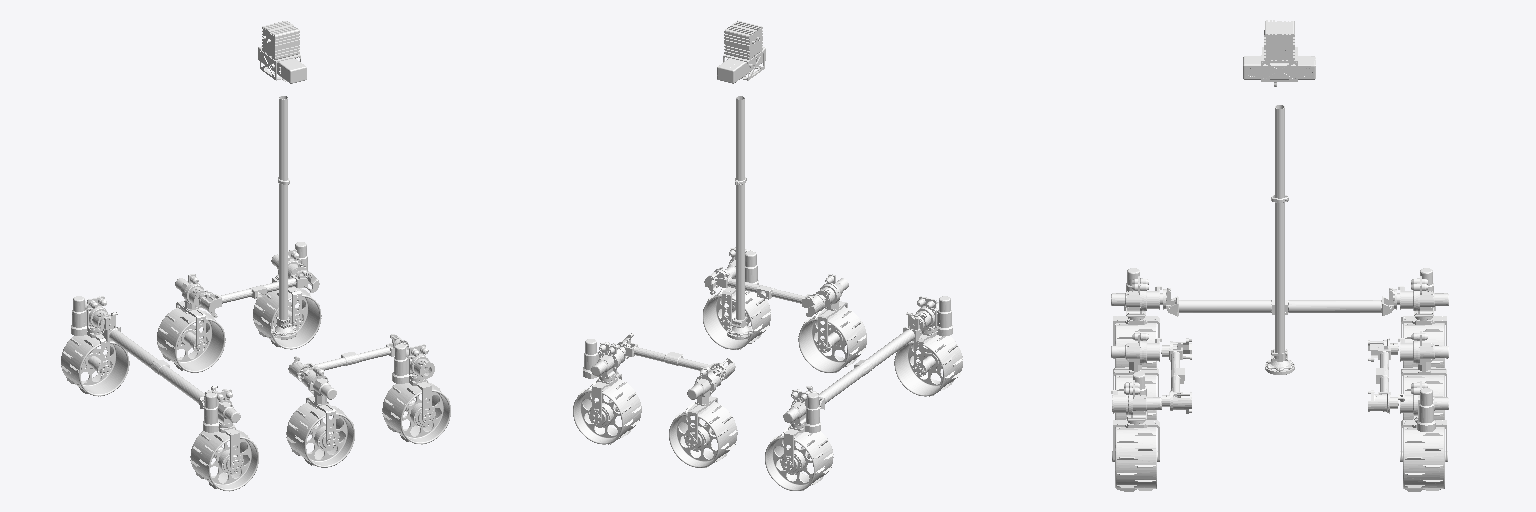
robot.urdf — exoter:
<?xml version="1.0"?>
<!-- URDF for ExoTer rover -->
<!-- Author: [author], [email redacted] DFKI, Robotic Innovation Centre -->
<!-- Version: 0.1 -->
<!-- February 2014 -->

<robot name="exoter">

<!-- Link definitions -->
<!-- Base Link of the Rover, main body of the rover, which looks like a Box -->
<link name="body_base">
    <visual>
        <geometry>
            <mesh filename="package://ga_slam_visualization/urdf/meshes/exoter/body_base_vicon_and_gps.stl" scale = "1 1 1"/>
        </geometry>
        <origin xyz="-0.0405 0.0 0.11" rpy="0 0 0"/> <!-- X translation to make the center at the middle wheels and Z translation for the height in body center (sign are changed because we are moving the body stl wrt the frame)-->
        <material name="White">
            <color rgba="1.0 1.0 1.0 1.0"/>
        </material>
    </visual>
</link>


<!-- Rear Link definition -->
<link name="rear_bogie">
    <visual>
        <geometry>
            <mesh filename="package://ga_slam_visualization/urdf/meshes/exoter/rear_bogie.stl" scale = "1 1 1"/>
        </geometry>
        <origin xyz="0.0 0.0 -0.02" rpy="0 0 0"/>
        <material name="White" >
            <color rgba="1.0 1.0 1. 1.0"/>
        </material>
    </visual>
</link>

<!-- Left Link definition -->
<link name="left_bogie">
    <visual>
        <geometry>
            <mesh filename="package://ga_slam_visualization/urdf/meshes/exoter/lateral_bogie.stl" scale = "1 1 1"/>
        </geometry>
        <origin xyz="0.0 0.0 0.0" rpy="0 0 0.0"/>
        <material name="White" >
            <color rgba="1.0 1.0 1. 1.0"/>
        </material>
    </visual>
</link>

<!-- Right Link definition -->
<link name="right_bogie">
    <visual>
        <geometry>
            <mesh filename="package://ga_slam_visualization/urdf/meshes/exoter/lateral_bogie.stl" scale = "1 1 1"/>
        </geometry>
        <origin xyz="0.0 0.0 0.0" rpy="3.14 0 0.0"/> <!-- mirror of the stl file -->
        <material name="White" >
            <color rgba="1.0 1.0 1. 1.0"/>
        </material>
    </visual>
</link>


<!-- FL Hinge definition -->
<link name="fl_hinge">
    <visual>
        <geometry>
            <mesh filename="package://ga_slam_visualization/urdf/meshes/exoter/hinge_front_middle.stl" scale = "1 1 1"/>
        </geometry>
        <origin xyz="0.0 0.0 0.0" rpy="0 0 0.0"/>
        <material name="White" >
            <color rgba="1.0 1.0 1. 1.0"/>
        </material>
    </visual>
</link>

<!-- FR Hinge definition -->
<link name="fr_hinge">
    <visual>
        <geometry>
            <mesh filename="package://ga_slam_visualization/urdf/meshes/exoter/hinge_front_middle.stl" scale = "1 1 1"/>
        </geometry>
        <origin xyz="0.0 0.0 0.0" rpy="3.14 0 0.0"/> <!-- mirror of the stl file -->
        <material name="White" >
            <color rgba="1.0 1.0 1. 1.0"/>
        </material>
    </visual>
</link>


<!-- ML Hinge definition -->
<link name="ml_hinge">
    <visual>
        <geometry>
            <mesh filename="package://ga_slam_visualization/urdf/meshes/exoter/hinge_front_middle.stl" scale = "1 1 1"/>
        </geometry>
        <origin xyz="0.0 0.0 0.0" rpy="0 3.14 0.0"/>
        <material name="White" >
            <color rgba="1.0 1.0 1. 1.0"/>
        </material>
    </visual>
</link>


<!-- MR Hinge definition -->
<link name="mr_hinge">
    <visual>
        <geometry>
            <mesh filename="package://ga_slam_visualization/urdf/meshes/exoter/hinge_front_middle.stl" scale = "1 1 1"/>
        </geometry>
        <origin xyz="0.0 0.0 0.0" rpy="3.14 3.14 0.0"/>
        <material name="White" >
            <color rgba="1.0 1.0 1. 1.0"/>
        </material>
    </visual>
</link>

<!-- Rear Right Hinge definition -->
<link name="rl_hinge">
    <visual>
        <geometry>
            <mesh filename="package://ga_slam_visualization/urdf/meshes/exoter/hinge_back_left.stl" scale = "1 1 1"/>
        </geometry>
        <origin xyz="0.0 0.0 0.0" rpy="0 0 0"/>
        <material name="White" >
            <color rgba="1.0 1.0 1. 1.0"/>
        </material>
    </visual>
</link>

<!-- Rear Left Hinge definition -->
<link name="rr_hinge">
    <visual>
        <geometry>
            <mesh filename="package://ga_slam_visualization/urdf/meshes/exoter/hinge_back_right.stl" scale = "1 1 1"/>
        </geometry>
        <origin xyz="0.0 0.0 0.0" rpy="0.0 0.0 0.0"/>
        <material name="White" >
            <color rgba="1.0 1.0 1. 1.0"/>
        </material>
    </visual>
</link>

<!-- Front Left Motor block -->
<link name="fl_motor">
    <visual>
        <geometry>
            <mesh filename="package://ga_slam_visualization/urdf/meshes/exoter/motor_block_fl.stl" scale = "1 1 1"/>
        </geometry>
        <origin xyz="0.0 0.0 0.0" rpy="0 0 0.0"/>
        <material name="White" >
            <color rgba="1.0 1.0 1. 1.0"/>
        </material>
    </visual>
</link>

<!-- Front Right Motor block -->
<link name="fr_motor">
    <visual>
        <geometry>
            <mesh filename="package://ga_slam_visualization/urdf/meshes/exoter/motor_block_rl.stl" scale = "1 1 1"/>
        </geometry>
        <origin xyz="0.0 0.0 0.0" rpy="0 0 0.0"/>
        <material name="White" >
            <color rgba="1.0 1.0 1. 1.0"/>
        </material>
    </visual>
</link>

<!-- Rear Left Motor block -->
<link name="rl_motor">
    <visual>
        <geometry>
            <mesh filename="package://ga_slam_visualization/urdf/meshes/exoter/motor_block_rl.stl" scale = "1 1 1"/>
        </geometry>
        <origin xyz="0.0 0.0 0.0" rpy="0 0 0.0"/>
        <material name="White" >
            <color rgba="1.0 1.0 1. 1.0"/>
        </material>
    </visual>
</link>

<!-- Rear Right Motor block -->
<link name="rr_motor">
    <visual>
        <geometry>
            <mesh filename="package://ga_slam_visualization/urdf/meshes/exoter/motor_block_rr.stl" scale = "1 1 1"/>
        </geometry>
        <origin xyz="0.0 0.0 0.0" rpy="0 0 0.0"/>
        <material name="White" >
            <color rgba="1.0 1.0 1. 1.0"/>
        </material>
    </visual>
</link>

<!-- Middle Left Motor block -->
<link name="ml_motor">
    <visual>
        <geometry>
            <mesh filename="package://ga_slam_visualization/urdf/meshes/exoter/motor_middle_left.stl" scale = "1 1 1"/>
        </geometry>
        <origin xyz="0.0 0.0 0.0" rpy="0 0 0.0"/>
        <material name="White" >
            <color rgba="1.0 1.0 1. 1.0"/>
        </material>
    </visual>
</link>

<!-- Middle Right Motor block -->
<link name="mr_motor">
    <visual>
        <geometry>
            <mesh filename="package://ga_slam_visualization/urdf/meshes/exoter/motor_middle_right.stl" scale = "1 1 1"/>
        </geometry>
        <origin xyz="0.0 0.0 0.0" rpy="0 0 0.0"/>
        <material name="White" >
            <color rgba="1.0 1.0 1. 1.0"/>
        </material>
    </visual>
</link>


<!-- Front Left Steer -->
<link name="fl_fork">
    <visual>
        <geometry>
            <mesh filename="package://ga_slam_visualization/urdf/meshes/exoter/fork_left.stl" scale = "1 1 1"/>
        </geometry>
        <origin xyz="0.0 0.0 0.0" rpy="0 0 0.0"/>
        <material name="White" >
            <color rgba="1.0 1.0 1. 1.0"/>
        </material>
    </visual>
</link>

<!-- Front Right Steer -->
<link name="fr_fork">
    <visual>
        <geometry>
            <mesh filename="package://ga_slam_visualization/urdf/meshes/exoter/fork_right.stl" scale = "1 1 1"/>
        </geometry>
        <origin xyz="0.0 0.0 0.0" rpy="0 0 0.0"/>
        <material name="White" >
            <color rgba="1.0 1.0 1. 1.0"/>
        </material>
    </visual>
</link>

<!-- Rear Left Steer -->
<link name="rl_fork">
    <visual>
        <geometry>
            <mesh filename="package://ga_slam_visualization/urdf/meshes/exoter/fork_left.stl" scale = "1 1 1"/>
        </geometry>
        <origin xyz="0.0 0.0 0.0" rpy="0 0 0.0"/>
        <material name="White" >
            <color rgba="1.0 1.0 1. 1.0"/>
        </material>
    </visual>
</link>

<!-- Rear Right Steer -->
<link name="rr_fork">
    <visual>
        <geometry>
            <mesh filename="package://ga_slam_visualization/urdf/meshes/exoter/fork_right.stl" scale = "1 1 1"/>
        </geometry>
        <origin xyz="0.0 0.0 0.0" rpy="0 0 0.0"/>
        <material name="White" >
            <color rgba="1.0 1.0 1.0 1.0"/>
        </material>
    </visual>
</link>

<!-- Front Left Wheel -->
<link name="fl_wheel">
    <visual>
        <geometry>
            <mesh filename="package://ga_slam_visualization/urdf/meshes/exoter/wheel.stl" scale = "1 1 1"/>
        </geometry>
        <origin xyz="0.0 0.0 0.0" rpy="0 0 0.0"/>
        <material name="White" >
            <color rgba="1.0 1.0 1.0 1.0"/>
        </material>
    </visual>
</link>

<!-- Front Right Wheel -->
<link name="fr_wheel">
    <visual>
        <geometry>
            <mesh filename="package://ga_slam_visualization/urdf/meshes/exoter/wheel.stl" scale = "1 1 1"/>
        </geometry>
        <origin xyz="0.0 0.0 0.0" rpy="3.14 0 0.0"/>
        <material name="White" >
            <color rgba="1.0 1.0 1.0 1.0"/>
        </material>
    </visual>
</link>

<!-- Middle Left Wheel -->
<link name="ml_wheel">
    <visual>
        <geometry>
            <mesh filename="package://ga_slam_visualization/urdf/meshes/exoter/wheel.stl" scale = "1 1 1"/>
        </geometry>
        <origin xyz="0.0 0.0 0.0" rpy="0 0 0.0"/>
        <material name="White" >
            <color rgba="1.0 1.0 1.0 1.0"/>
        </material>
    </visual>
</link>

<!-- Middle Right Wheel -->
<link name="mr_wheel">
    <visual>
        <geometry>
            <mesh filename="package://ga_slam_visualization/urdf/meshes/exoter/wheel.stl" scale = "1 1 1"/>
        </geometry>
        <origin xyz="0.0 0.0 0.0" rpy="3.14 0 0.0"/>
        <material name="White" >
            <color rgba="1.0 1.0 1.0 1.0"/>
        </material>
    </visual>
</link>

<!-- Rear Left Wheel -->
<link name="rl_wheel">
    <visual>
        <geometry>
            <mesh filename="package://ga_slam_visualization/urdf/meshes/exoter/wheel.stl" scale = "1 1 1"/>
        </geometry>
        <origin xyz="0.0 0.0 0.0" rpy="0 0 0.0"/>
        <material name="White" >
            <color rgba="1.0 1.0 1.0 1.0"/>
        </material>
    </visual>
</link>

<!-- Rear Right Wheel -->
<link name="rr_wheel">
    <visual>
        <geometry>
            <mesh filename="package://ga_slam_visualization/urdf/meshes/exoter/wheel.stl" scale = "1 1 1"/>
        </geometry>
        <origin xyz="0.0 0.0 0.0" rpy="3.14 0 0.0"/>
        <material name="White" >
            <color rgba="1.0 1.0 1.0 1.0"/>
        </material>
    </visual>
</link>

<!-- Mast Assembly  -->
<link name="mast_assembly">
    <visual>
        <geometry>
            <mesh filename="package://ga_slam_visualization/urdf/meshes/exoter/mast_assembly.stl" scale = "1 1 1"/>
        </geometry>
        <origin xyz="0.0 0.0 0.0" rpy="0 0 0.0"/>
        <material name="White" >
            <color rgba="1.0 1.0 1.0 1.0"/>
        </material>
    </visual>
</link>

<!-- Pan drive  -->
<link name="pan_drive">
    <visual>
        <geometry>
            <mesh filename="package://ga_slam_visualization/urdf/meshes/exoter/pan_drive.stl" scale = "1 1 1"/>
        </geometry>
        <origin xyz="0.0 0.0 0.0" rpy="0 0 0.0"/>
        <material name="White" >
            <color rgba="1.0 1.0 1.0 1.0"/>
        </material>
    </visual>
</link>

<!-- Tilt drive  -->
<link name="tilt_drive">
    <visual>
        <geometry>
            <mesh filename="package://ga_slam_visualization/urdf/meshes/exoter/tilt_drive.stl" scale = "1 1 1"/>
        </geometry>
        <origin xyz="0.0 0.0 0.0" rpy="0 0 0.0"/>
        <material name="White" >
            <color rgba="1.0 1.0 1.0 1.0"/>
        </material>
    </visual>
</link>

<!-- Cameras assembly  -->
<link name="camera_assembly">
    <visual>
        <geometry>
            <mesh filename="package://ga_slam_visualization/urdf/meshes/exoter/bb2_and_tof_camera.stl" scale = "1 1 1"/>
        </geometry>
        <origin xyz="0.0 0.0 0.0" rpy="0 0 0.0"/>
        <material name="White" >
            <color rgba="1.0 1.0 1.0 1.0"/>
        </material>
    </visual>
</link>



<!-- ====================Joint Descriptions =================================================================================-->

<!-- rear joint that connects base_link and rear_link with a revolute joint -->
<joint name="rear_passive" type="fixed">
    <parent link="body_base"/>
    <child link="rear_bogie"/>
    <origin xyz="-0.265 0 0" rpy="0.0 0.0 0.00"/> 
    <axis xyz="1 0 0 " /> <!-- revolute rotation about Y axis -->
    <limit lower="-1.6" upper="1.6" velocity="6.28" effort="100"/>
</joint>

<!-- right joint that connects base_link and right_link with a revolute joint -->
<joint name="right_passive" type="fixed">
    <parent link="body_base"/>
    <child link="right_bogie"/>
    <origin xyz="0.1325 -0.223 0" rpy="0 0.00 0"/> 
    <axis xyz="0 1 0" /> <!-- revolute rotation about Y axis -->
    <limit lower="-1.6" upper="1.6" velocity="6.28" effort="100"/>
</joint>

<!-- left joint that connects base_link and front_link with a revolute joint -->
<joint name="left_passive" type="fixed">
    <parent link="body_base"/>
    <child link="left_bogie"/>
    <origin xyz="0.1325 0.223 0" rpy="0 0.00 0"/> 
    <axis xyz="0 1 0" /> <!-- revolute rotation about Y axis -->
    <limit lower="-1.6" upper="1.6" velocity="6.28" effort="100"/>
</joint>

<!-- front left joint that connects left_bogie and fl_hinge with a mimic joint -->
<joint name="fl_mimic" type="fixed">
    <parent link="left_bogie"/>
    <child link="fl_hinge"/>
    <origin xyz="0.1325 0 0" rpy="0 0.0 0"/>
    <axis xyz="0 1 0" /> <!-- revolute rotation about Y axis -->
    <mimic joint="left_passive" multiplier="-1" offset="0"/>
    <limit lower="-1.6" upper="1.6" velocity="6.28" effort="100"/>
</joint>

<!-- front right joint that connects right_bogie and fr_hinge with a mimic joint -->
<joint name="fr_mimic" type="fixed">
    <parent link="right_bogie"/>
    <child link="fr_hinge"/>
    <origin xyz="0.1325 0 0" rpy="0 0.0 0"/>
    <axis xyz="0 1 0" /> <!-- revolute rotation about Y axis -->
    <mimic joint="right_passive" multiplier="-1" offset="0"/>
    <limit lower="-1.6" upper="1.6" velocity="6.28" effort="100"/>
</joint>

<!-- middle left joint that connects left_bogie and ml_hinge with a mimic joint -->
<joint name="ml_mimic" type="fixed">
    <parent link="left_bogie"/>
    <child link="ml_hinge"/>
    <origin xyz="-0.1325 0 0" rpy="0 0.0 0"/>
    <axis xyz="0 1 0" /> <!-- revolute rotation about Y axis -->
    <mimic joint="left_passive" multiplier="-1" offset="0"/>
    <limit lower="-1.6" upper="1.6" velocity="6.28" effort="100"/>
</joint>

<!-- middle right joint that connects right_bogie and mr_hinge with a mimic joint -->
<joint name="mr_mimic" type="fixed">
    <parent link="right_bogie"/>
    <child link="mr_hinge"/>
    <origin xyz="-0.1325 0 0" rpy="0 0.0 0"/>
    <axis xyz="0 1 0" /> <!-- revolute rotation about Y axis -->
    <mimic joint="right_passive" multiplier="-1" offset="0"/>
    <limit lower="-1.6" upper="1.6" velocity="6.28" effort="100"/>
</joint>

<!-- rear left joint that connects rear_bogie and rl_hinge with a mimic joint -->
<joint name="rl_mimic" type="fixed">
    <parent link="rear_bogie"/>
    <child link="rl_hinge"/>
    <origin xyz="0.0 0.239 0" rpy="0 0.0 0"/>
    <axis xyz="1 0 0" /> <!-- revolute rotation about X axis -->
    <mimic joint="rear_passive" multiplier="-1" offset="0"/>
    <limit lower="-1.6" upper="1.6" velocity="6.28" effort="100"/>
</joint>

<!-- rear right joint that connects rear_bogie and rr_hinge with a mimic joint -->
<joint name="rr_mimic" type="fixed">
    <parent link="rear_bogie"/>
    <child link="rr_hinge"/>
    <origin xyz="0.0 -0.239 0" rpy="0 0.0 0"/>
    <axis xyz="1 0 0" /> <!-- revolute rotation about X axis -->
    <mimic joint="rear_passive" multiplier="-1" offset="0"/>
    <limit lower="-1.6" upper="1.6" velocity="6.28" effort="100"/>
</joint>

<!-- FL Wheel walking joint with a revolute joint -->
<joint name="fl_walking" type="fixed">
    <parent link="fl_hinge"/>
    <child link="fl_motor"/>
    <origin xyz="0 0.087 -0.005" rpy="0 0.00 0"/> 
    <axis xyz="0 1 0" /> <!-- revolute rotation about z axis -->
    <limit lower="-1.6" upper="1.6" velocity="6.28" effort="100"/>
</joint>


<!-- FR Wheel walking joint with a revolute joint -->
<joint name="fr_walking" type="fixed">
    <parent link="fr_hinge"/>
    <child link="fr_motor"/>
    <origin xyz="0 -0.087 -0.005" rpy="0 0.00 0"/> 
    <axis xyz="0 1 0" /> <!-- revolute rotation about z axis -->
    <limit lower="-1.6" upper="1.6" velocity="6.28" effort="100"/>
</joint>

<!-- RL Wheel walking joint with a revolute joint -->
<joint name="rl_walking" type="fixed">
    <parent link="rl_hinge"/>
    <child link="rl_motor"/>
    <origin xyz="0 0.071 -0.005" rpy="0 0.00 0"/> 
    <axis xyz="0 1 0" /> <!-- revolute rotation about z axis -->
    <limit lower="-1.6" upper="1.6" velocity="6.28" effort="100"/>
</joint>

<!-- RR Wheel walking joint with a revolute joint -->
<joint name="rr_walking" type="fixed">
    <parent link="rr_hinge"/>
    <child link="rr_motor"/>
    <origin xyz="0 -0.071 -0.005" rpy="0 0.00 0"/> 
    <axis xyz="0 1 0" /> <!-- revolute rotation about z axis -->
    <limit lower="-1.6" upper="1.6" velocity="6.28" effort="100"/>
</joint>

<!-- ML Wheel walking joint with a revolute joint -->
<joint name="ml_walking" type="fixed">
    <parent link="ml_hinge"/>
    <child link="ml_motor"/>
    <origin xyz="0 0.087 -0.005" rpy="0 0.00 0"/> 
    <axis xyz="0 1 0" /> <!-- revolute rotation about z axis -->
    <limit lower="-1.6" upper="1.6" velocity="6.28" effort="100"/>
</joint>

<!-- MR Wheel walking joint with a revolute joint -->
<joint name="mr_walking" type="fixed">
    <parent link="mr_hinge"/>
    <child link="mr_motor"/>
    <origin xyz="0 -0.087 -0.005" rpy="0 0.00 0"/> 
    <axis xyz="0 1 0" /> <!-- revolute rotation about z axis -->
    <limit lower="-1.6" upper="1.6" velocity="6.28" effort="100"/>
</joint>

<!-- FL Wheel steer joint with a revolute joint -->
<joint name="fl_steer" type="fixed">
    <parent link="fl_motor"/>
    <child link="fl_fork"/>
    <origin xyz="0 0.0 -0.03" rpy="0 0.00 0"/> 
    <axis xyz="0 0 1" /> <!-- revolute rotation about z axis -->
    <limit lower="-1.6" upper="1.6" velocity="6.28" effort="100"/>
</joint>

<!-- FR Wheel steer joint with a revolute joint -->
<joint name="fr_steer" type="fixed">
    <parent link="fr_motor"/>
    <child link="fr_fork"/>
    <origin xyz="0 0.0 -0.03" rpy="0 0.00 0"/> 
    <axis xyz="0 0 1" /> <!-- revolute rotation about z axis -->
    <limit lower="-1.6" upper="1.6" velocity="6.28" effort="100"/>
</joint>

<!-- RL Wheel steer joint with a revolute joint -->
<joint name="rl_steer" type="fixed">
    <parent link="rl_motor"/>
    <child link="rl_fork"/>
    <origin xyz="0 0.0 -0.03" rpy="0 0.00 0"/> 
    <axis xyz="0 0 1" /> <!-- revolute rotation about z axis -->
    <limit lower="-1.6" upper="1.6" velocity="6.28" effort="100"/>
</joint>

<!-- RR Wheel steer joint with a revolute joint -->
<joint name="rr_steer" type="fixed">
    <parent link="rr_motor"/>
    <child link="rr_fork"/>
    <origin xyz="0 0.0 -0.03" rpy="0 0.00 0"/> 
    <axis xyz="0 0 1" /> <!-- revolute rotation about z axis -->
    <limit lower="-1.6" upper="1.6" velocity="6.28" effort="100"/>
</joint>

<!-- FL Wheel drive joint with a revolute joint -->
<joint name="fl_drive" type="fixed">
    <parent link="fl_fork"/>
    <child link="fl_wheel"/>
    <origin xyz="0 0.0 -0.0953" rpy="0 0.00 0"/> 
    <axis xyz="0 1 0" /> <!-- revolute rotation about y axis -->
    <limit lower="-3.14" upper="3.14" velocity="6.28" effort="100"/>
</joint>

<!-- FR Wheel drive joint with a revolute joint -->
<joint name="fr_drive" type="fixed">
    <parent link="fr_fork"/>
    <child link="fr_wheel"/>
    <origin xyz="0 0.0 -0.0953" rpy="0 0.00 0"/> 
    <axis xyz="0 1 0" /> <!-- revolute rotation about y axis -->
    <limit lower="-3.14" upper="3.14" velocity="6.28" effort="100"/>
</joint>

<!-- ML Wheel drive joint with a revolute joint -->
<joint name="ml_drive" type="fixed">
    <parent link="ml_motor"/>
    <child link="ml_wheel"/>
    <origin xyz="0 0.0 -0.1253" rpy="0 0.00 0"/> 
    <axis xyz="0 1 0" /> <!-- revolute rotation about y axis -->
    <limit lower="-3.14" upper="3.14" velocity="6.28" effort="100"/>
</joint>

<!-- MR Wheel drive joint with a revolute joint -->
<joint name="mr_drive" type="fixed">
    <parent link="mr_motor"/>
    <child link="mr_wheel"/>
    <origin xyz="0 0.0 -0.1253" rpy="0 0.00 0"/> 
    <axis xyz="0 1 0" /> <!-- revolute rotation about y axis -->
    <limit lower="-3.14" upper="3.14" velocity="6.28" effort="100"/>
</joint>

<!-- RL Wheel drive joint with a revolute joint -->
<joint name="rl_drive" type="fixed">
    <parent link="rl_fork"/>
    <child link="rl_wheel"/>
    <origin xyz="0 0.0 -0.0953" rpy="0 0.00 0"/> 
    <axis xyz="0 1 0" /> <!-- revolute rotation about y axis -->
    <limit lower="-3.14" upper="3.14" velocity="6.28" effort="100"/>
</joint>

<!-- RR Wheel drive joint with a revolute joint -->
<joint name="rr_drive" type="fixed">
    <parent link="rr_fork"/>
    <child link="rr_wheel"/>
    <origin xyz="0 0.0 -0.0953" rpy="0 0.00 0"/> 
    <axis xyz="0 1 0" /> <!-- revolute rotation about y axis -->
    <limit lower="-3.14" upper="3.14" velocity="6.28" effort="100"/>
</joint>

<!-- Mast assembly with a fixed joint -->
<joint name="mast_joint" type="fixed">
    <parent link="body_base"/>
    <child link="mast_assembly"/>
    <origin xyz="0.076 0.0 0.0" rpy="0 0.0 0"/> 
    <limit lower="-1.6" upper="1.6" velocity="6.28" effort="100"/>
</joint>

<!--Pan assembly with a fixed joint -->
<joint name="mast_top_joint" type="fixed">
    <parent link="mast_assembly"/>
    <child link="pan_drive"/>
    <origin xyz="0.0 0.0 0.64" rpy="0 0.0 0"/> 
    <limit lower="-1.6" upper="1.6" velocity="6.28" effort="100"/>
</joint>

<!-- Pan joint with a revolute joint -->
<joint name="pan_joint" type="fixed">
    <parent link="pan_drive"/>
    <child link="tilt_drive"/>
    <origin xyz="0.0 0.0 0.0" rpy="0 0.0 0"/> 
    <axis xyz="0 0 1" /> <!-- revolute rotation about z axis -->
    <limit lower="-1.6" upper="1.6" velocity="6.28" effort="100"/>
</joint>

<!-- Tilt joint with a revolute joint -->
<joint name="tilt_joint" type="fixed">
    <parent link="tilt_drive"/>
    <child link="camera_assembly"/>
    <origin xyz="0.0 0.0 0.03" rpy="0 0.0 0"/> 
    <axis xyz="0 1 0" /> <!-- revolute rotation about y axis -->
    <limit lower="-1.6" upper="1.6" velocity="6.28" effort="100"/>
</joint>


</robot>

--- Facts derived from the render (not from the file) ---
The picture shows the robot from 3 angles, left to right: view 1: azimuth 30°, elevation 25°; view 2: azimuth 150°, elevation 25°; view 3: azimuth 270°, elevation 25°; orthographic projection.
Robot: exoter — 30 links, 29 joints (29 fixed); root link body_base; default pose: all joints at 0.
Links seen in each view (by area): view 1: mr_wheel, fr_wheel, rr_wheel, ml_wheel, rl_wheel, mast_assembly, camera_assembly, fl_wheel, rear_bogie, mr_motor, fr_motor, ml_motor (+6 smaller); view 2: ml_wheel, fl_wheel, rl_wheel, mr_wheel, rr_wheel, mast_assembly, camera_assembly, fr_wheel, rear_bogie, fl_motor, ml_motor, mr_motor (+7 smaller); view 3: mast_assembly, camera_assembly, rear_bogie, fr_wheel, fl_wheel, ml_motor, fl_motor, fr_motor, rl_motor, rr_motor, mr_motor, rl_wheel (+4 smaller).
Link boxes in pixels (x1,y1,x2,y2): mr_wheel: (286,401,354,467); fr_wheel: (382,382,450,444); rr_wheel: (190,429,258,491); ml_wheel: (157,307,225,372); rl_wheel: (61,335,129,396); mast_assembly: (271,96,296,339); camera_assembly: (258,21,306,83); fl_wheel: (253,288,321,349); rear_bogie: (102,327,204,408); mr_motor: (302,366,336,445); fr_motor: (392,344,434,383); ml_motor: (175,274,206,352); ml_wheel: (669,402,737,467); fl_wheel: (573,378,641,444); rl_wheel: (765,427,833,490); mr_wheel: (798,307,866,372); rr_wheel: (894,335,962,396); mast_assembly: (727,96,752,339); camera_assembly: (717,20,765,83); fr_wheel: (703,288,770,349); rear_bogie: (819,327,921,409); fl_motor: (583,339,625,378); ml_motor: (687,366,721,446); mr_motor: (816,274,848,352); mast_assembly: (1265,105,1294,374); camera_assembly: (1243,20,1315,86); rear_bogie: (1168,296,1391,316); fr_wheel: (1115,427,1156,491); fl_wheel: (1403,427,1444,491); ml_motor: (1398,331,1448,396); fl_motor: (1398,381,1448,431); fr_motor: (1111,372,1161,420); rl_motor: (1398,268,1448,316); rr_motor: (1111,268,1161,316); mr_motor: (1111,331,1161,396); rl_wheel: (1403,323,1444,367).
Size in the robot's own frame: 0.6787 by 0.7298 by 1 metres.
Meshes: 18 distinct files referenced, 27 mesh visuals loaded (15 binary STL); not drawn: 3 (reference not matched to a file when rendering).